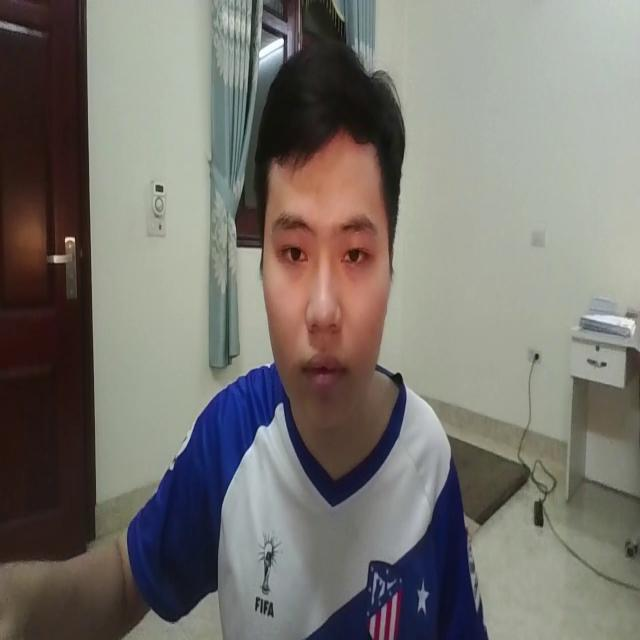student: (73, 30, 509, 640)
